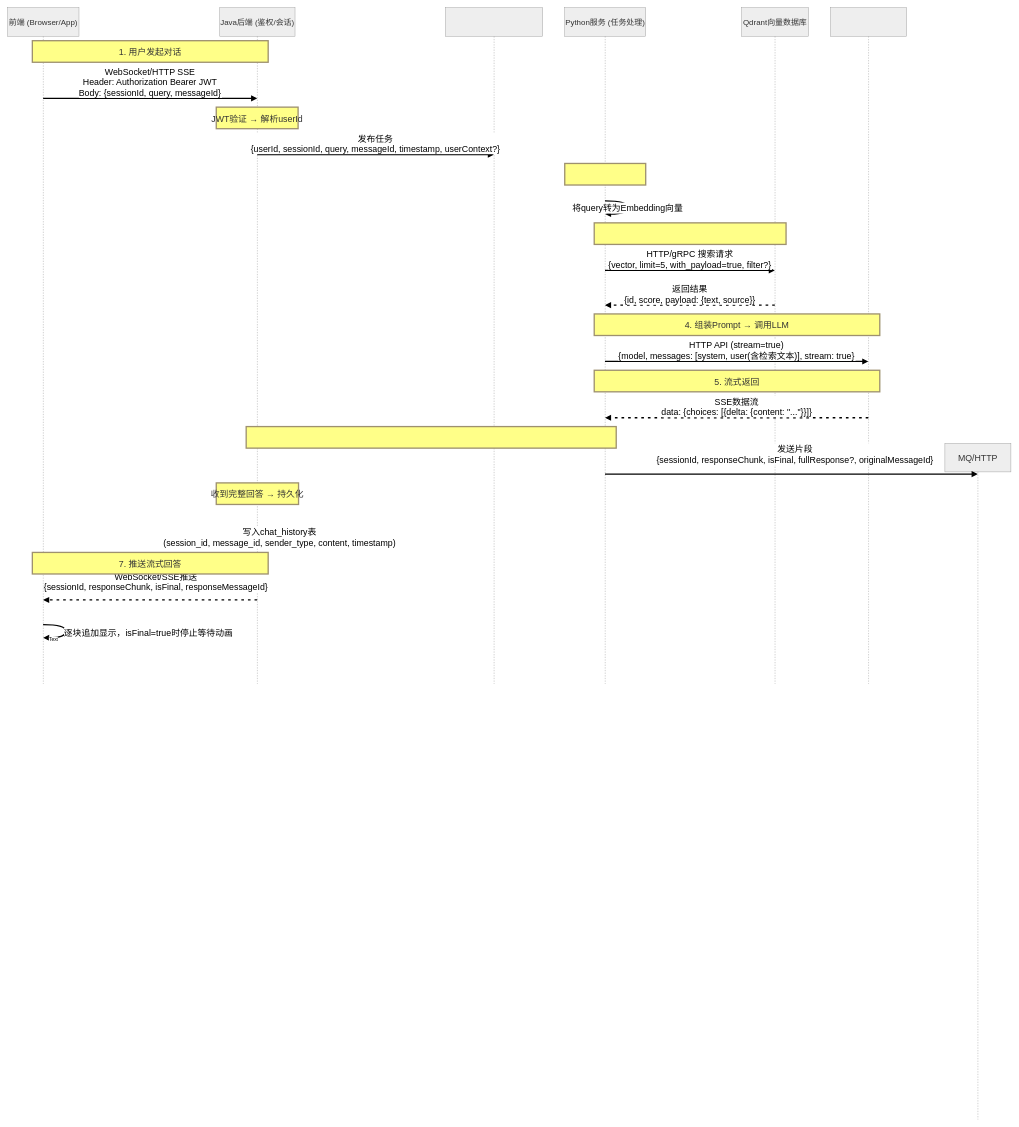
Image size: 1019x1127. Some labels were removed from this diagram. Here are the shapes that lost their labels. From the top down, the centre of each, then its label:
At (605,174): "消费者拉取任务".
At (689,233): "3. 检索增强 (RAG)".
At (494,345): "消息队列 (RabbitMQ/Kafka)".
At (868,345): "大语言模型 (LLM API)".
At (431,437): "6. 转发流式片段".
